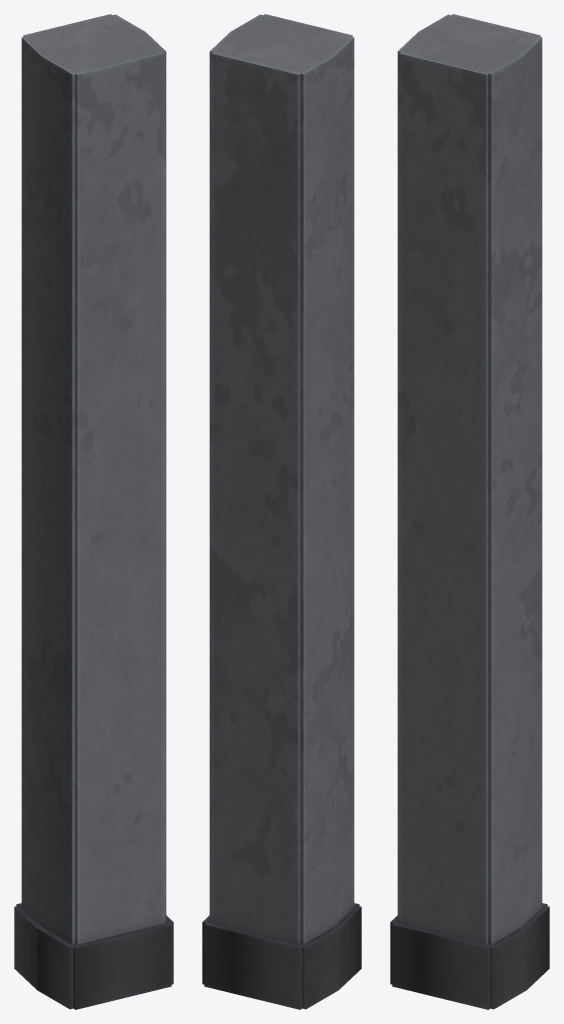
Rendered from Gas_Pilar.glb.
3 views of the same model, side by side, from view 1: azimuth 30°, elevation 25°; view 2: azimuth 150°, elevation 25°; view 3: azimuth 330°, elevation 25° (orthographic).
Visible parts, largest first — view 1: Gas_Pilar.001; view 2: Gas_Pilar.001; view 3: Gas_Pilar.001.
Part boxes in pixels (x1=…): Gas_Pilar.001: x1=14, y1=14, x2=173, y2=1009; Gas_Pilar.001: x1=202, y1=14, x2=361, y2=1009; Gas_Pilar.001: x1=390, y1=14, x2=549, y2=1009.
Bounding box in the file's own units: 0.7644 × 6 × 0.693.
Materials: 1 (1 with a texture image).
